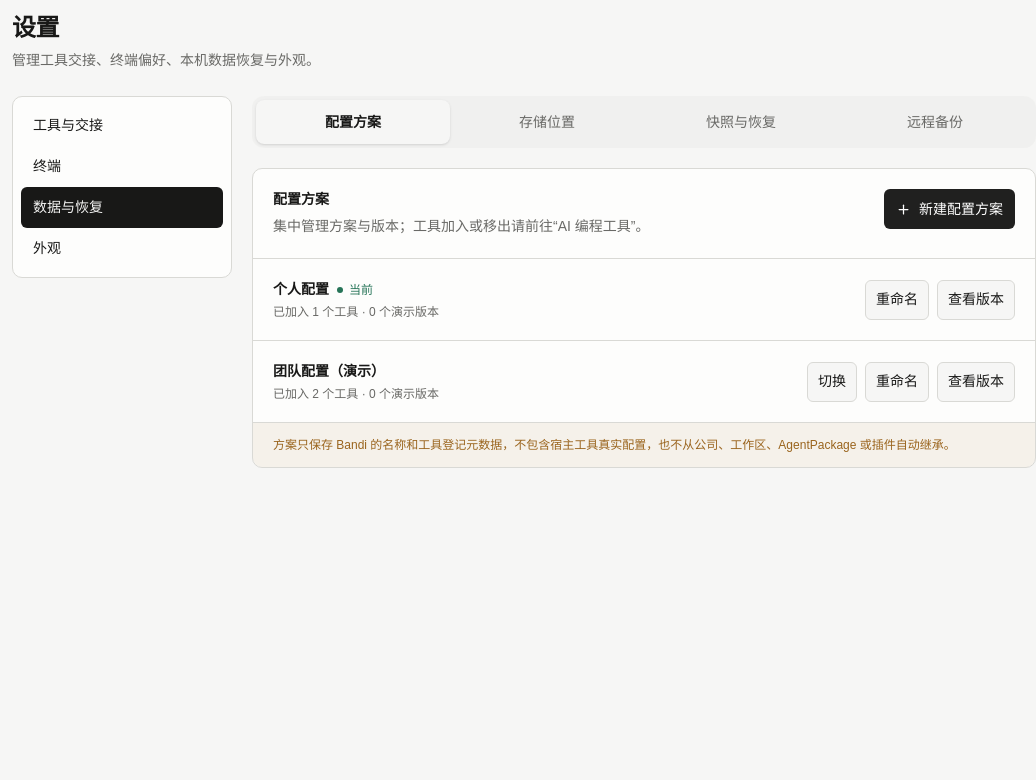
Test case: 设置页 › 将配置与备份拆为四个互斥 Tab 并保留内容归属
Expected: the text "个人配置" is shown, [273, 279, 329, 300]
Expected: the button "新建配置方案" is shown, [884, 189, 1015, 229]
Click the tab "存储位置". click: point(547, 122)
box: [450, 100, 644, 144]
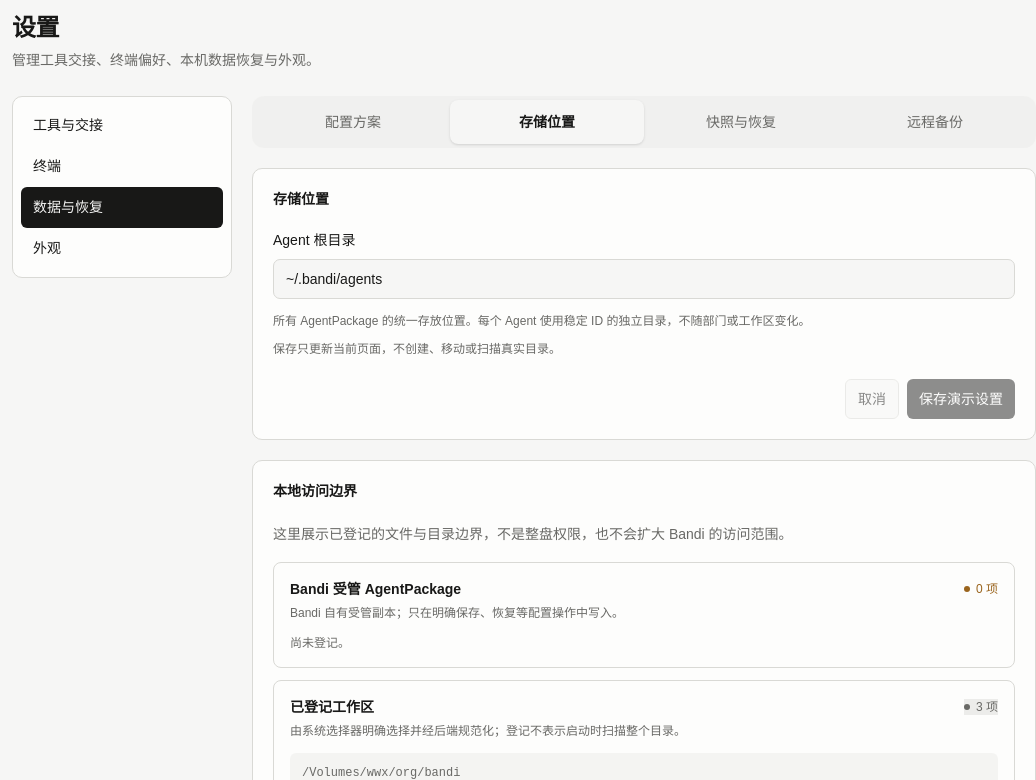
Expected: the text "自动快照" is not shown
Expected: the field labelled "Agent 根目录" holds "~/.bandi/agents", [273, 259, 1015, 299]
Click the tab "快照与恢复". click: point(741, 122)
box: [644, 100, 838, 144]
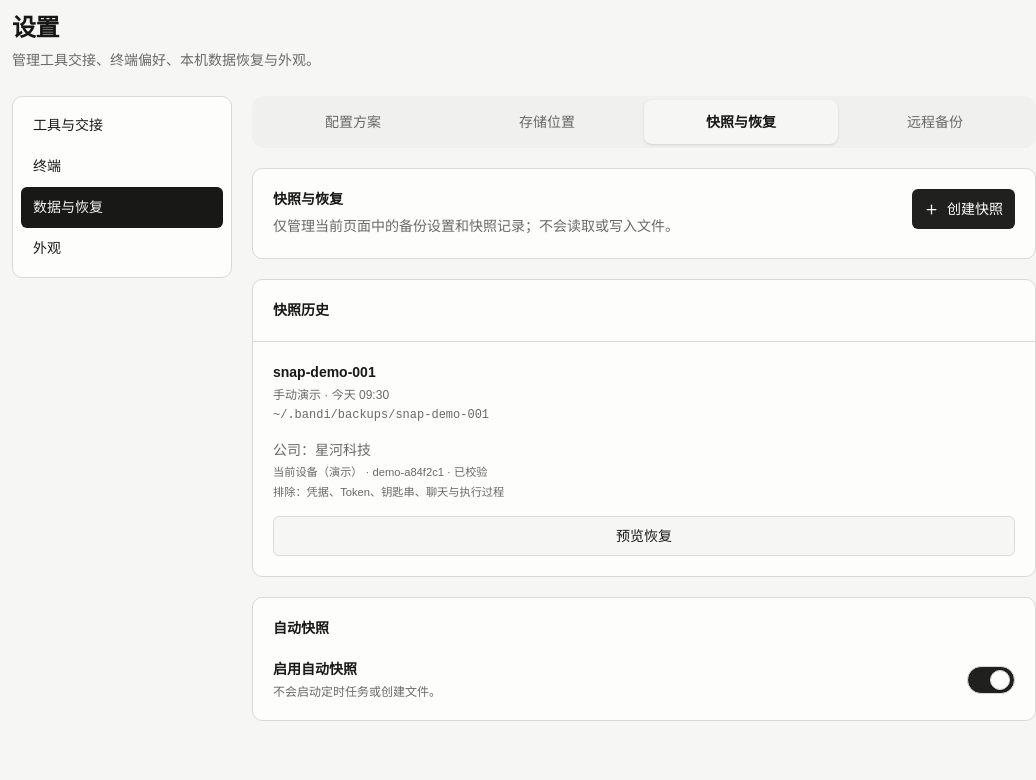
Expected: the text "快照历史" is shown, [273, 302, 329, 318]
Expected: the text "自动快照" is shown, [273, 620, 329, 636]
Expected: the button "预览恢复" is shown, [273, 516, 1015, 556]
Click the tab "远程备份". click: point(935, 122)
box: [838, 100, 1032, 144]
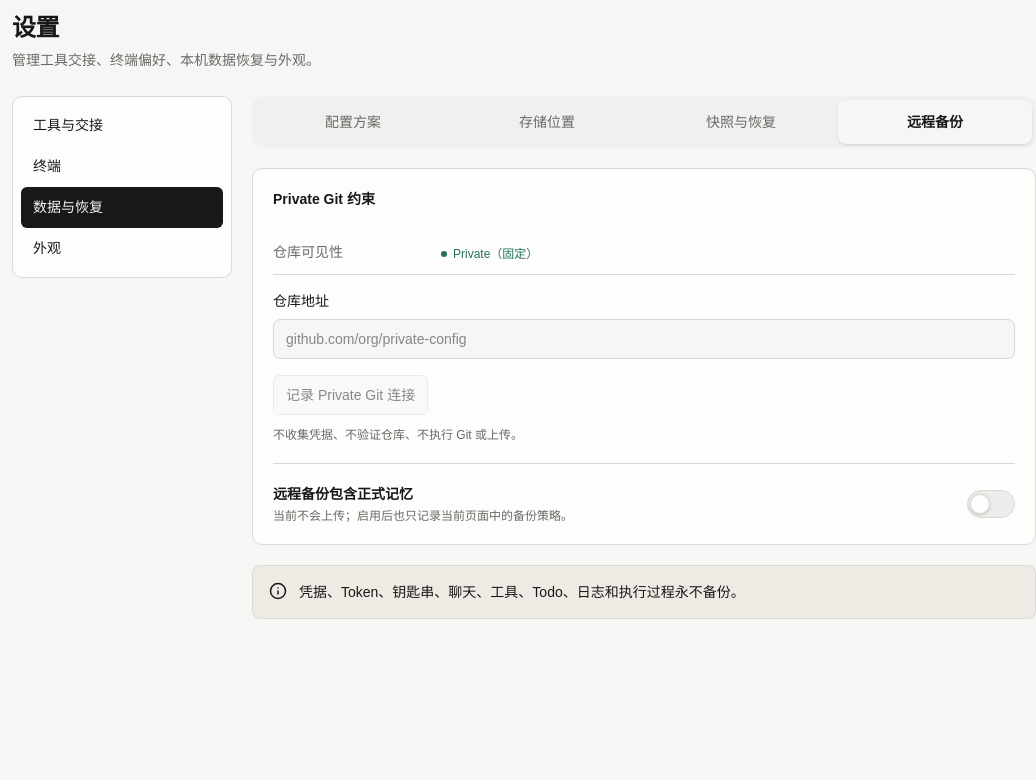
Expected: the text "Private Git 约束" is shown, [273, 191, 375, 207]
Expected: the text "远程备份包含正式记忆" is shown, [273, 486, 413, 502]
Expected: the text "凭据、Token、钥匙串、聊天、工具、Todo、日志和执行过程永不备份。" is shown, [299, 582, 745, 602]
